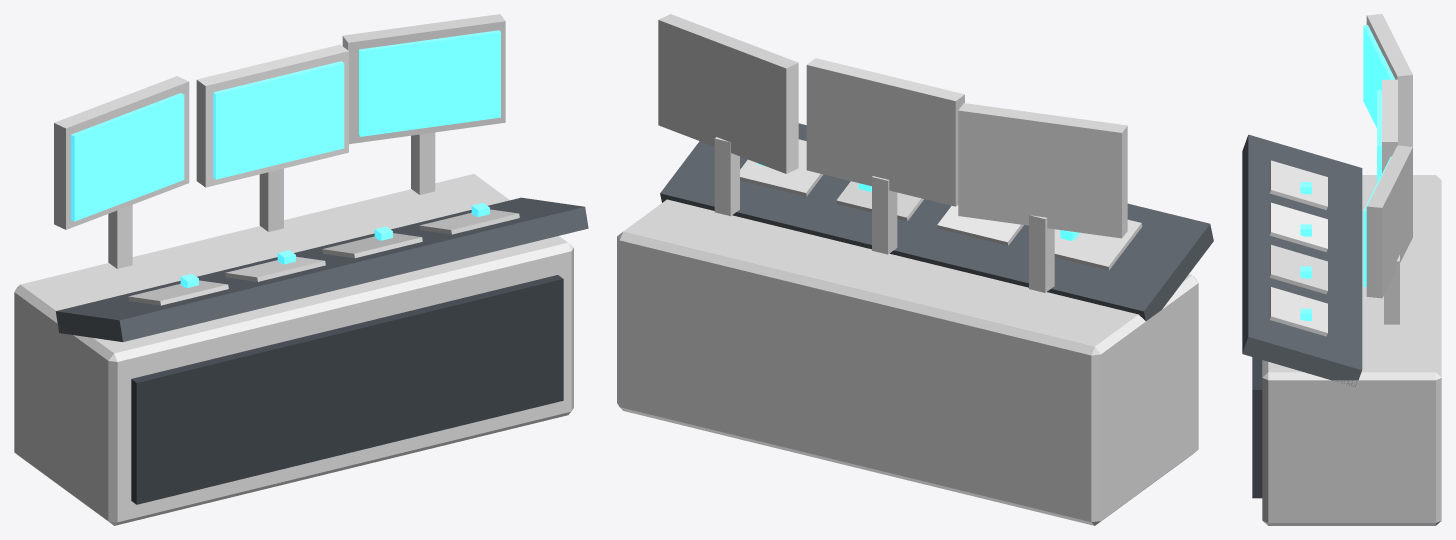
The model's file is Console_Control.fbx.
3 views of the same model, side by side, from view 1: azimuth 30°, elevation 25°; view 2: azimuth 150°, elevation 25°; view 3: azimuth 270°, elevation 25° (orthographic). The views are drawn at different scales.
Visible parts, largest first — view 1: Console_Control; view 2: Console_Control; view 3: Console_Control.
Boxes of the visible parts, x1,y1,x2,y2 form: Console_Control: (14,14,588,525); Console_Control: (617,14,1213,525); Console_Control: (1242,14,1441,525).
Size of the model in its own units: 2.4 by 1.75 by 1.
